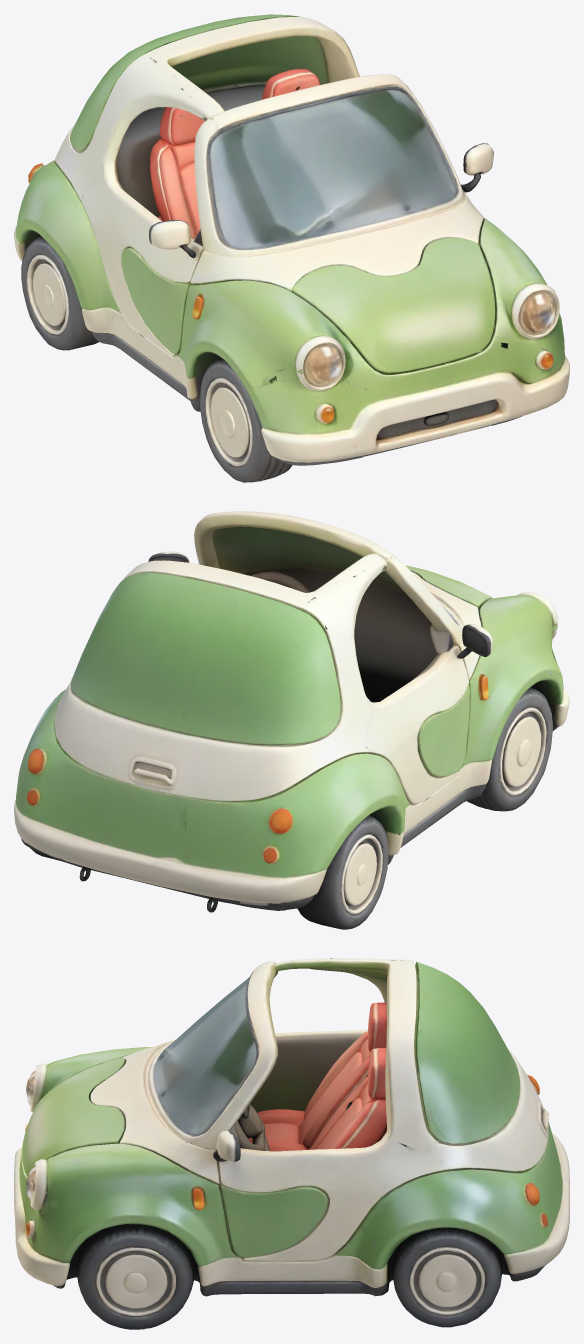
The model's file is sprout.glb.
3 views of the same model, one above another, from view 1: azimuth 30°, elevation 25°; view 2: azimuth 150°, elevation 25°; view 3: azimuth 270°, elevation 25° (orthographic). The views are drawn at different scales.
Visible parts, largest first — view 1: model; view 2: model; view 3: model.
Part boxes in pixels (x1,y1,x2,y2): model: (14, 14, 569, 482); model: (14, 511, 569, 929); model: (14, 958, 569, 1329).
Bounding box in the file's own units: 1.23 × 1.05 × 1.89.
Materials: 1 (1 with a texture image).
